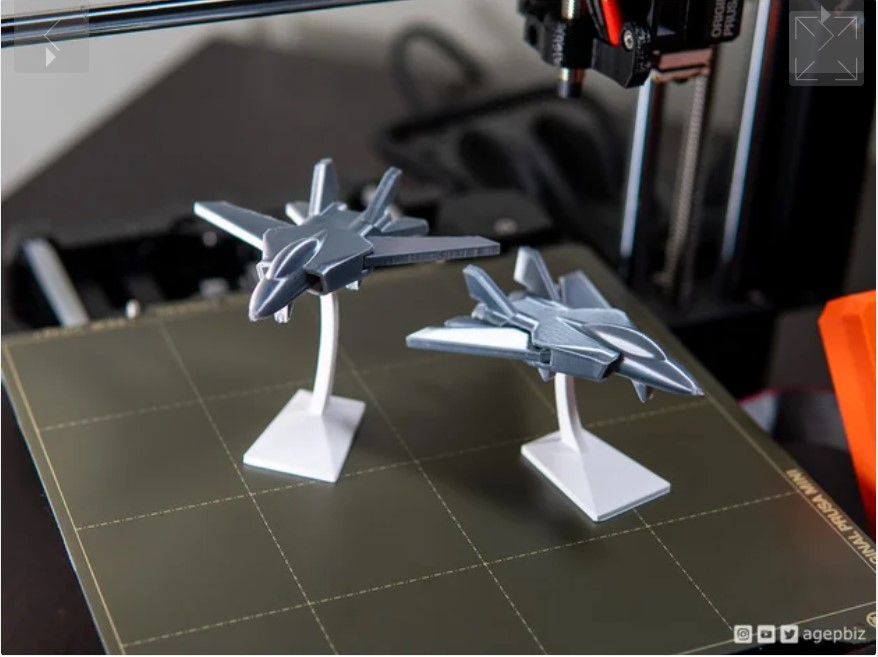Good: (176, 127, 741, 546)
